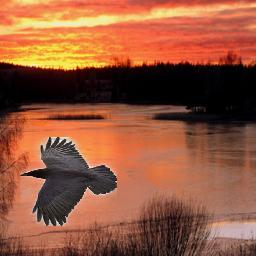Crow: (21, 138, 118, 227)
